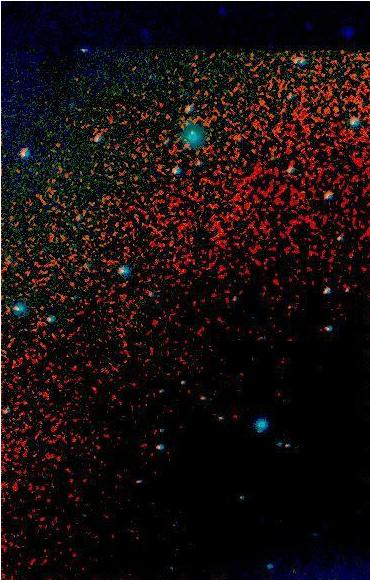star: (277, 559, 307, 580)
